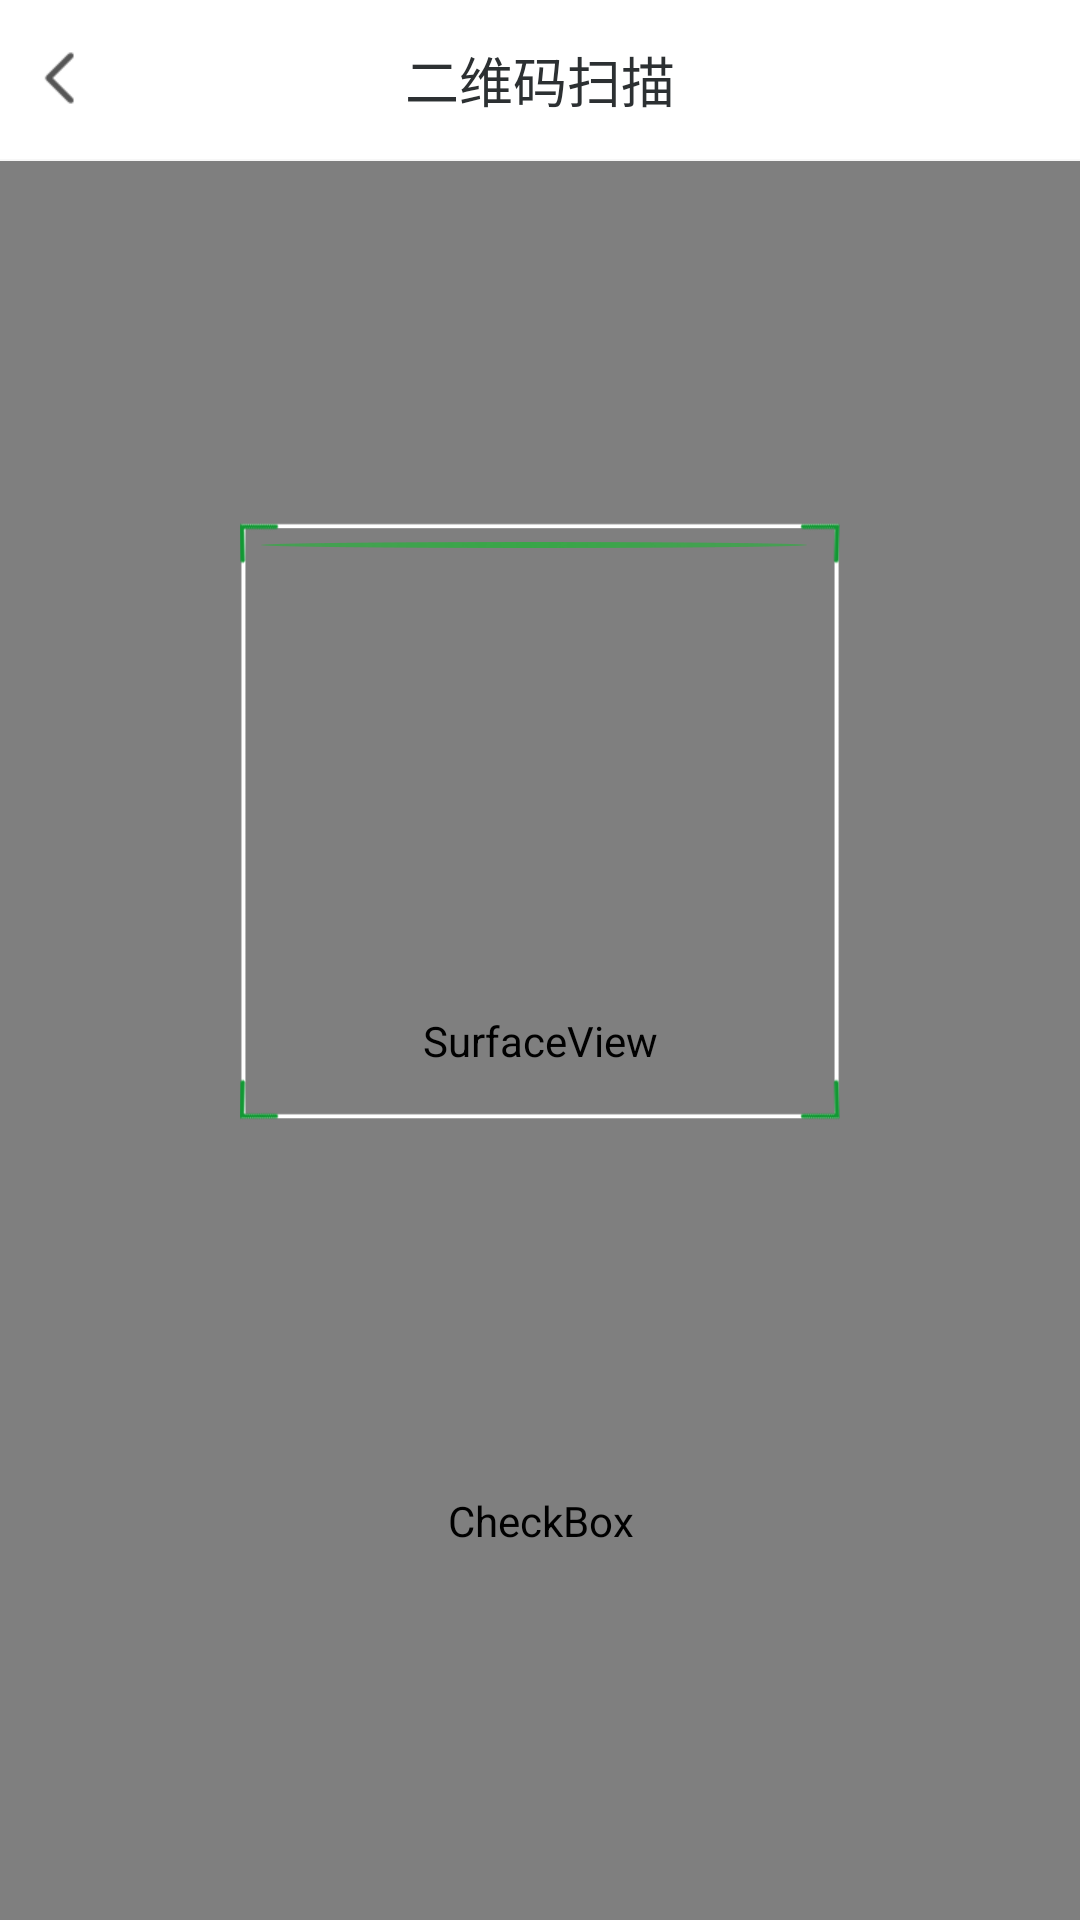

Where to tap for icons on this 1080*1920 app screen, as (x,y):
back: (59,78)
